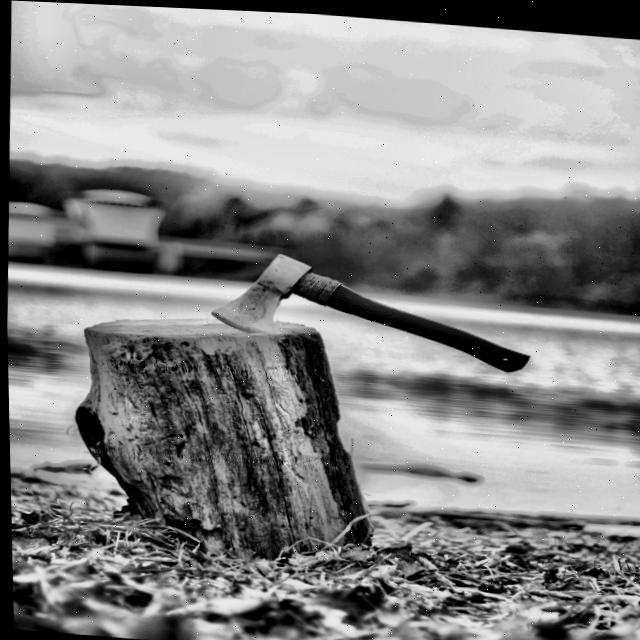kapak: (190, 250, 561, 387)
